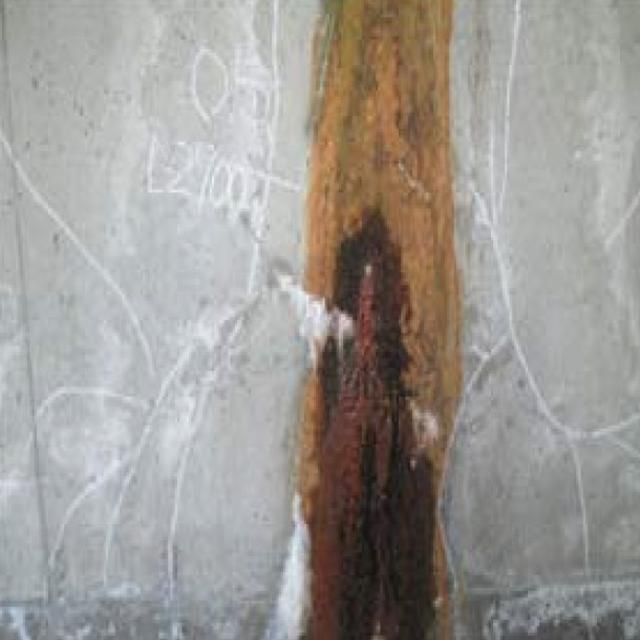leakage: (283, 31, 473, 638)
